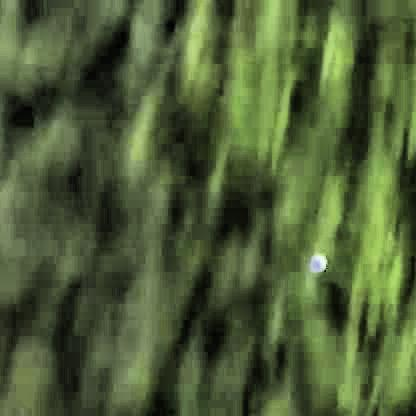golfball: (305, 251, 323, 269)
